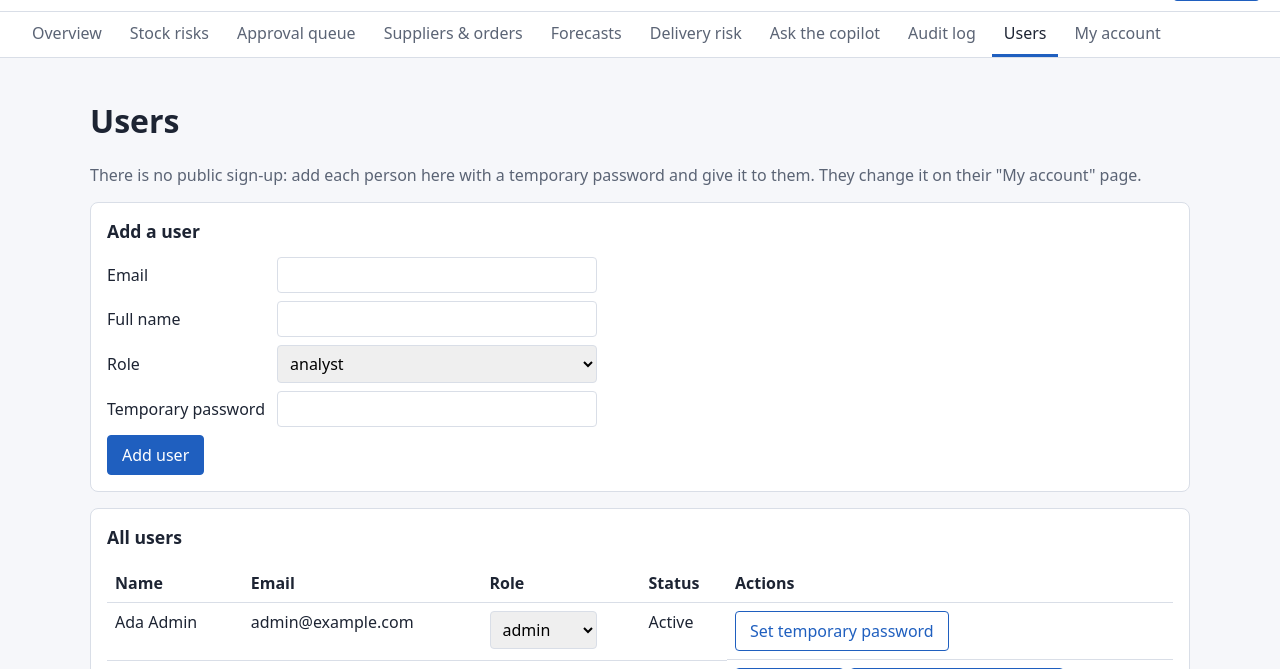
Test: users page › adds a user with a role and a temporary password
Expected: the heading "Users" is shown, 90,99 -> 180,142
Type "priya@example.com" into the field labelled "Email" at (437, 276), box 277,258 -> 597,294
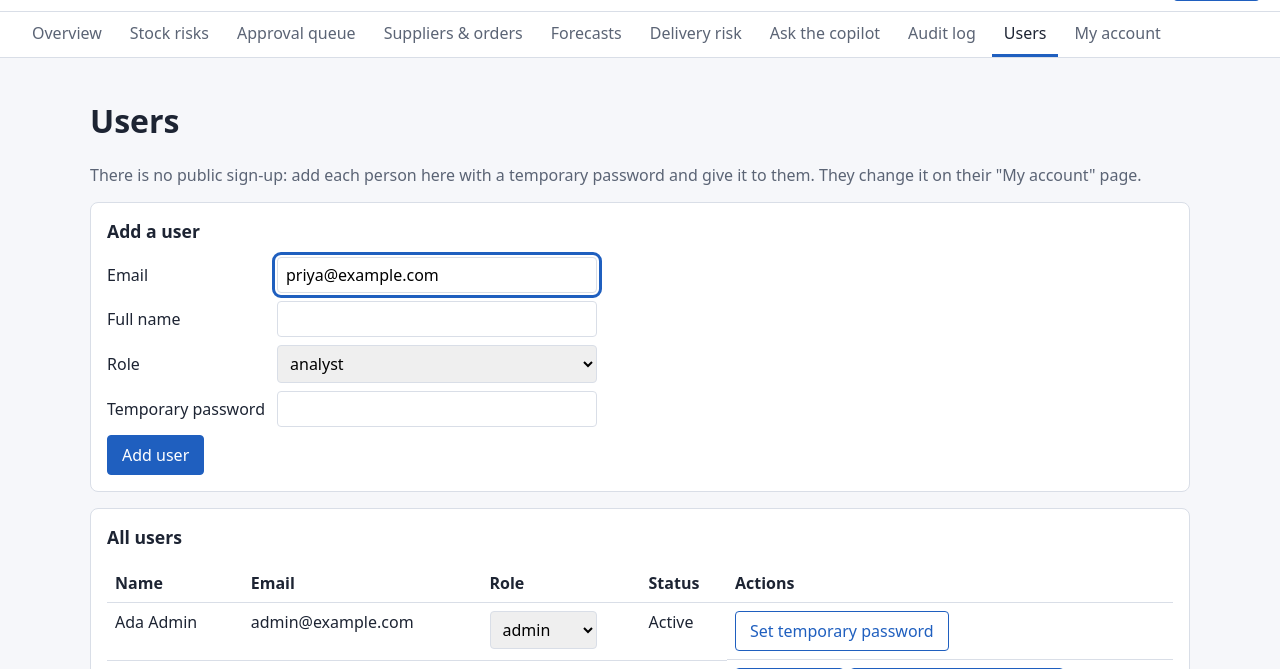
Type "Priya" into the field labelled "Full name" at (437, 320), box 277,302 -> 597,338
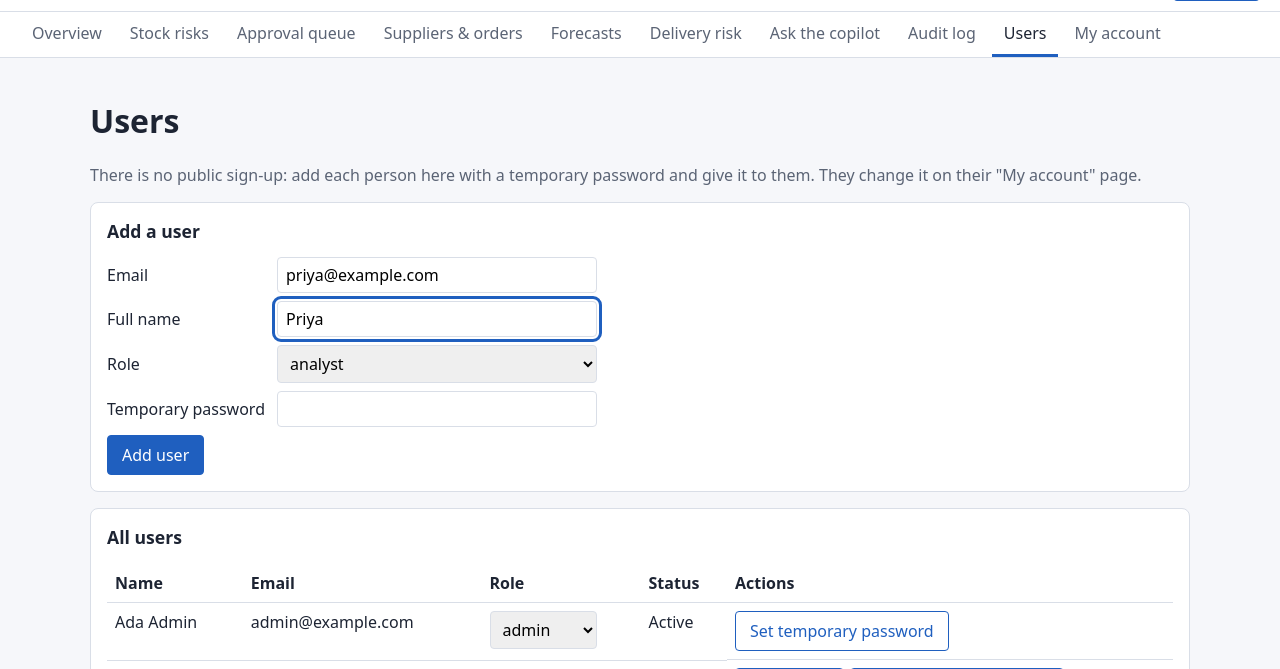
Select "manager" in the dropdown labelled "Role" at (437, 364), box 277,346 -> 597,384
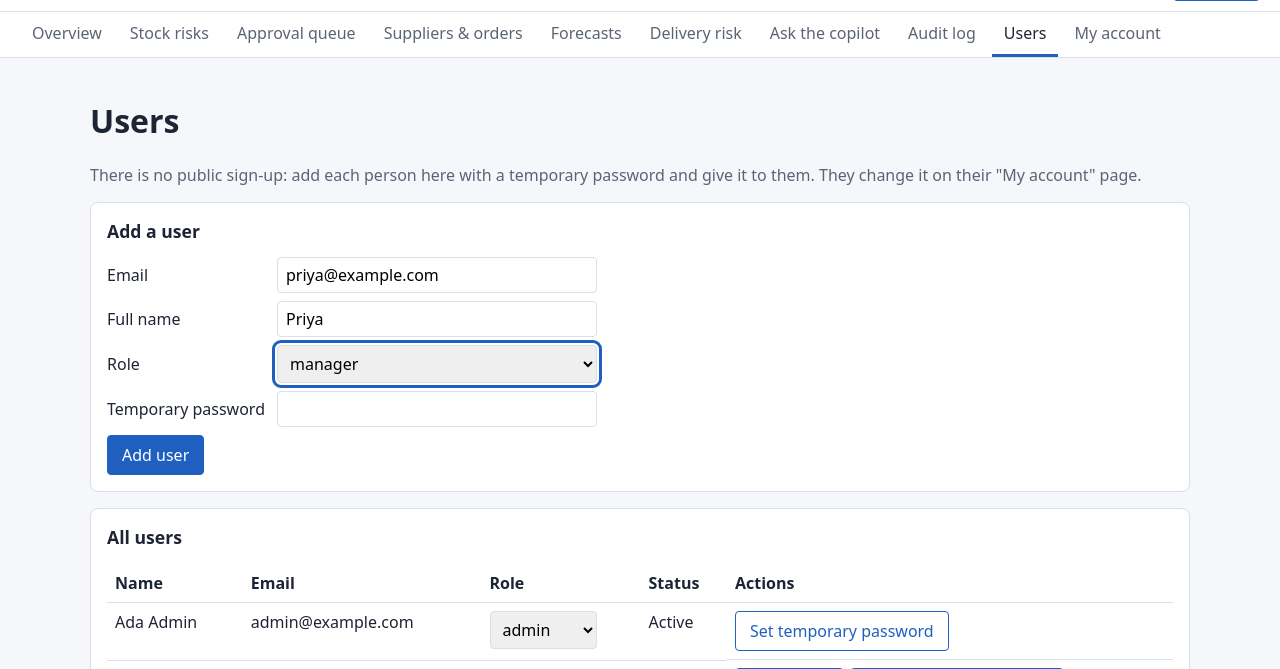
Type "welcome-to-chainpilot" into the field labelled "Temporary password" at (437, 410), box 277,392 -> 597,428
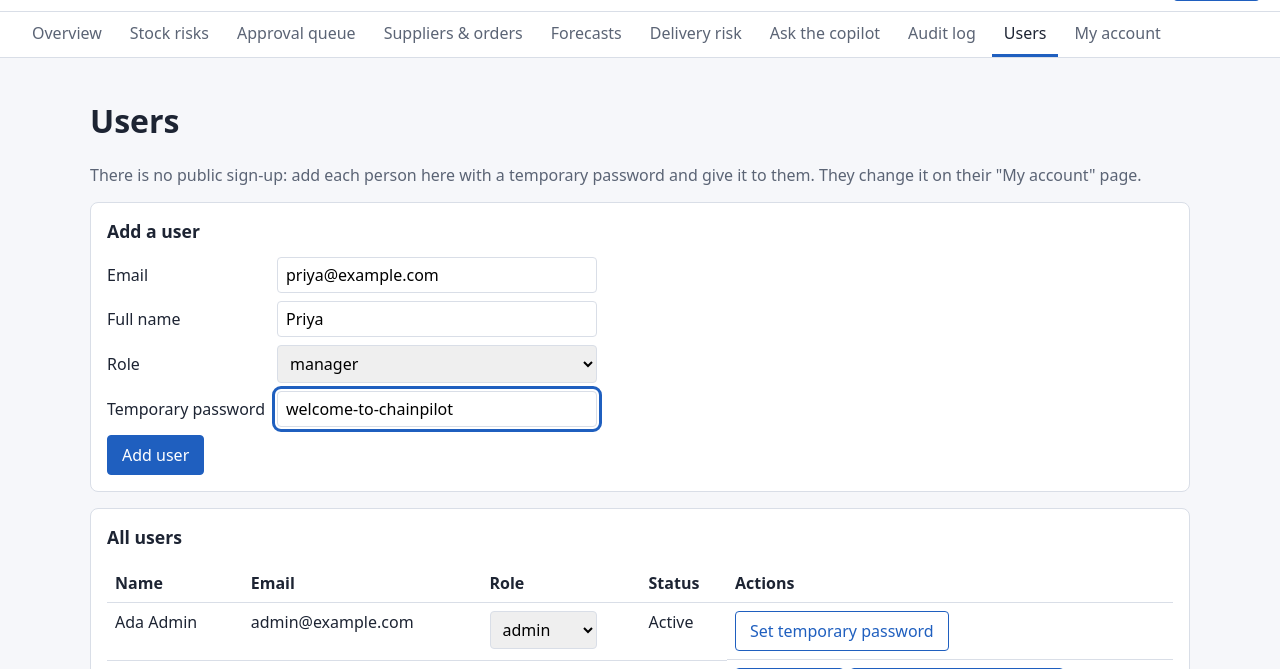
Click the button "Add user" at (156, 456), box 107,436 -> 204,476
(page scrolled)
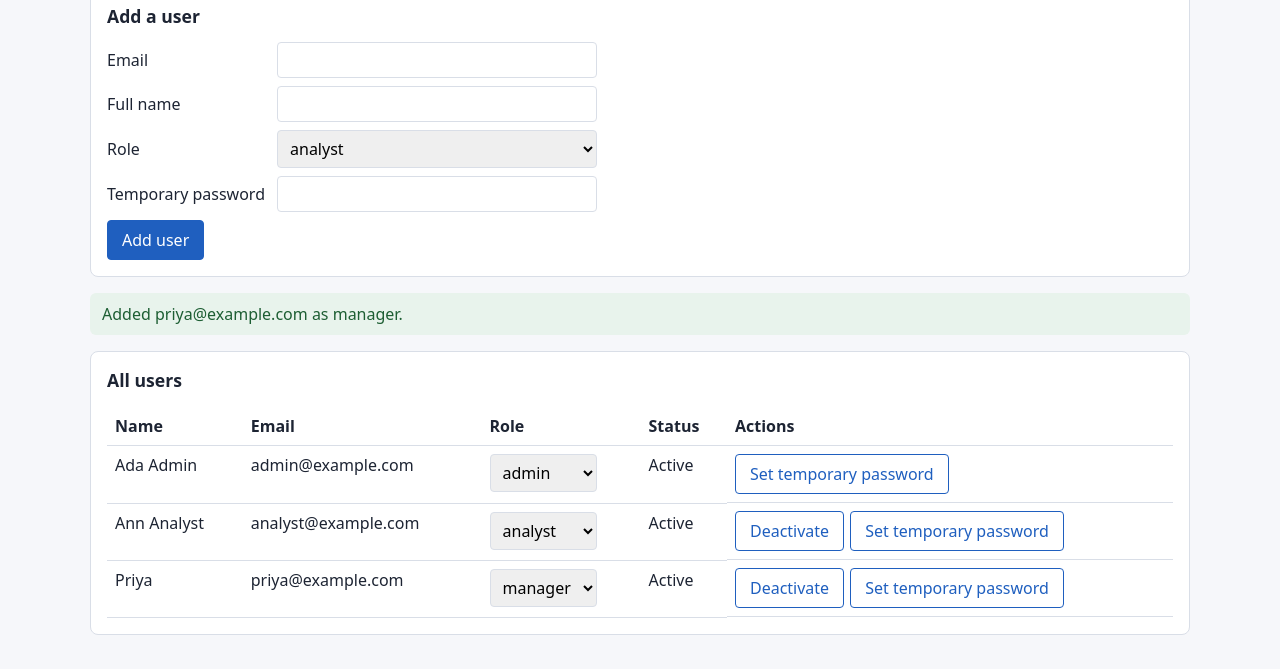
Expected: the message reads "Added priya@example.com as manager.", 102,304 -> 403,326
Expected: the row "priya@example.com" is shown, 107,560 -> 1173,617
